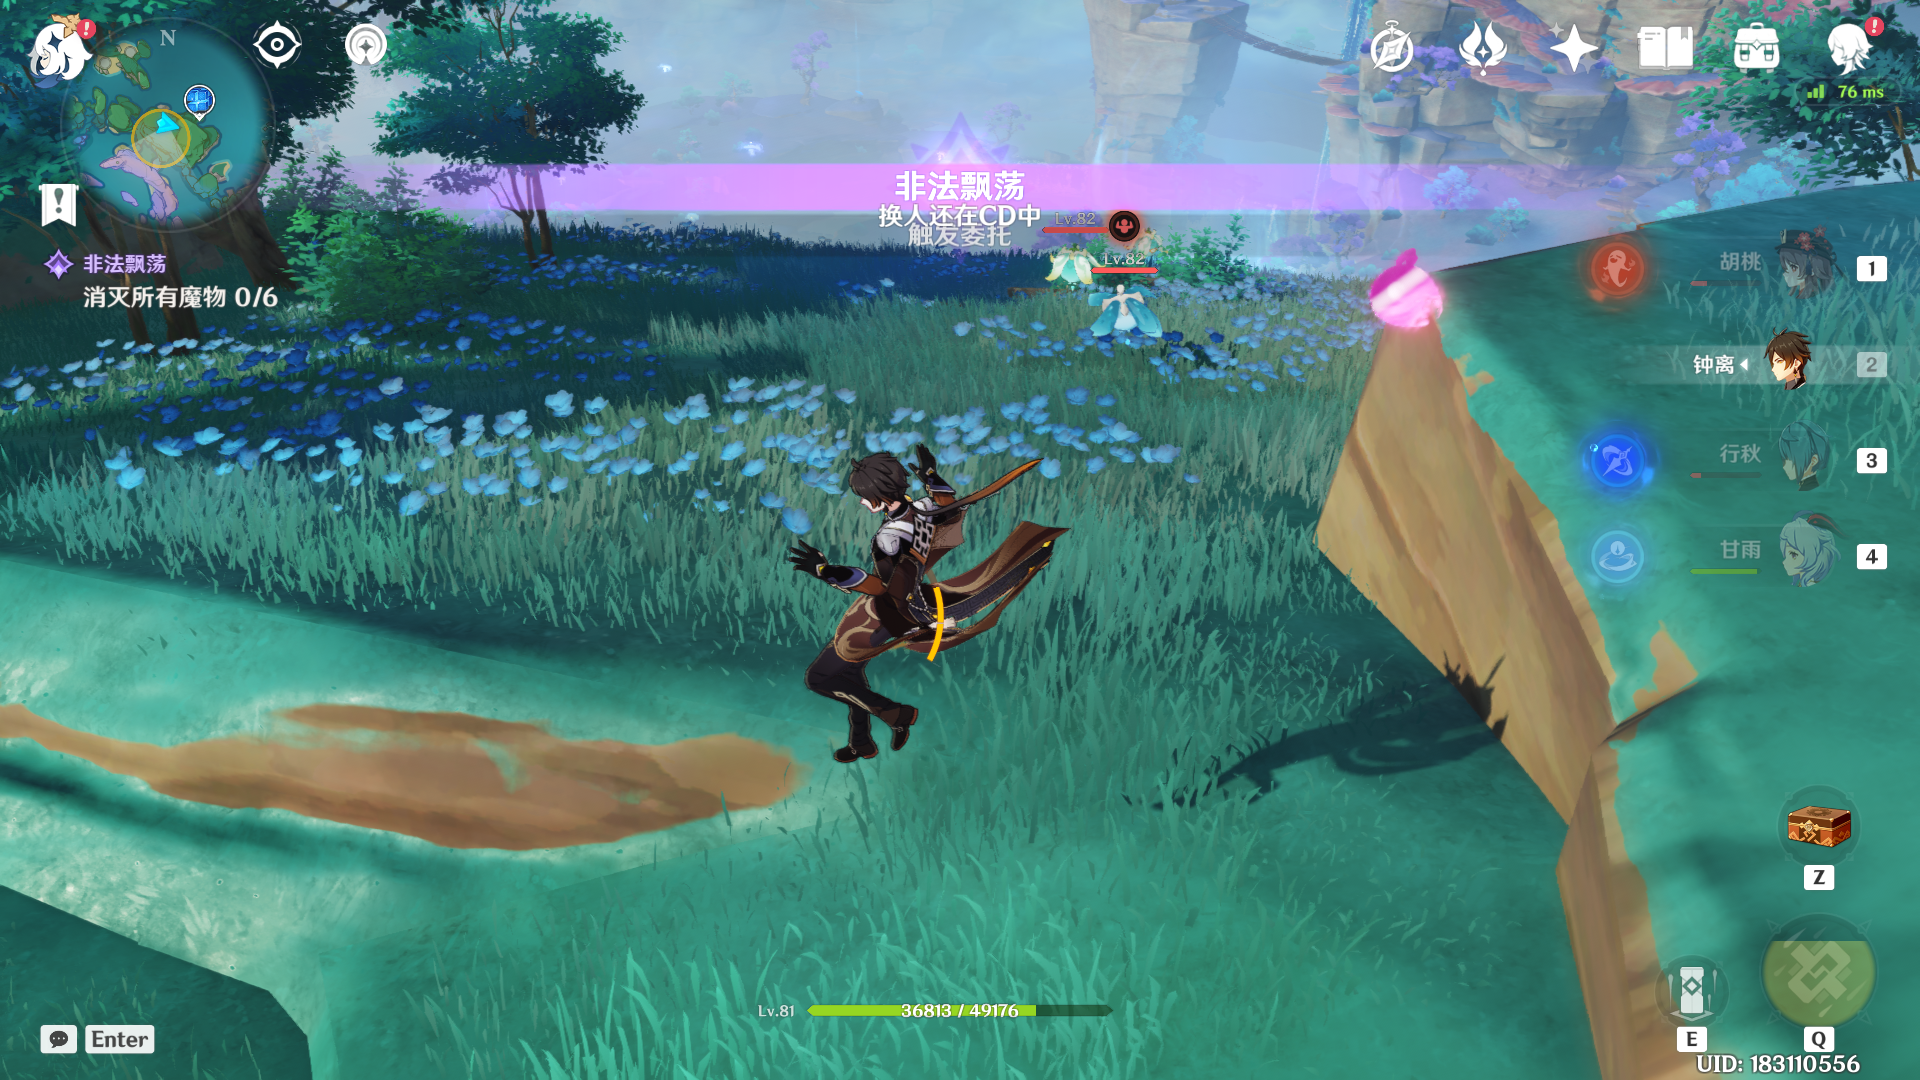character: (741, 417, 1063, 806)
